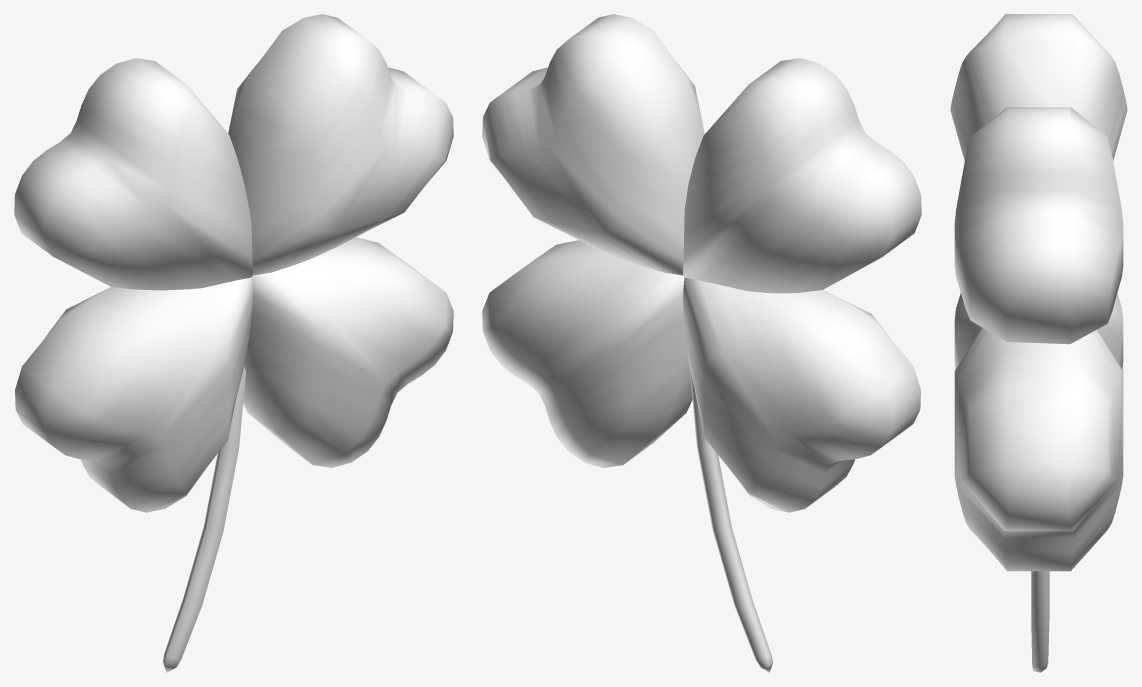
File: Clover.fbx
3 renders of one model, left to right at view 1: azimuth 30°, elevation 25°; view 2: azimuth 150°, elevation 25°; view 3: azimuth 270°, elevation 25°, orthographic. The views are drawn at different scales.
Visible parts, largest first — view 1: Cube.012; view 2: Cube.012; view 3: Cube.012.
Boxes of the visible parts, box(x1,y1,x2,y2) form: Cube.012: box(14, 14, 453, 672); Cube.012: box(482, 14, 921, 672); Cube.012: box(950, 14, 1127, 672).
Bounding box in the file's own units: 21.91 × 31.02 × 7.76.
